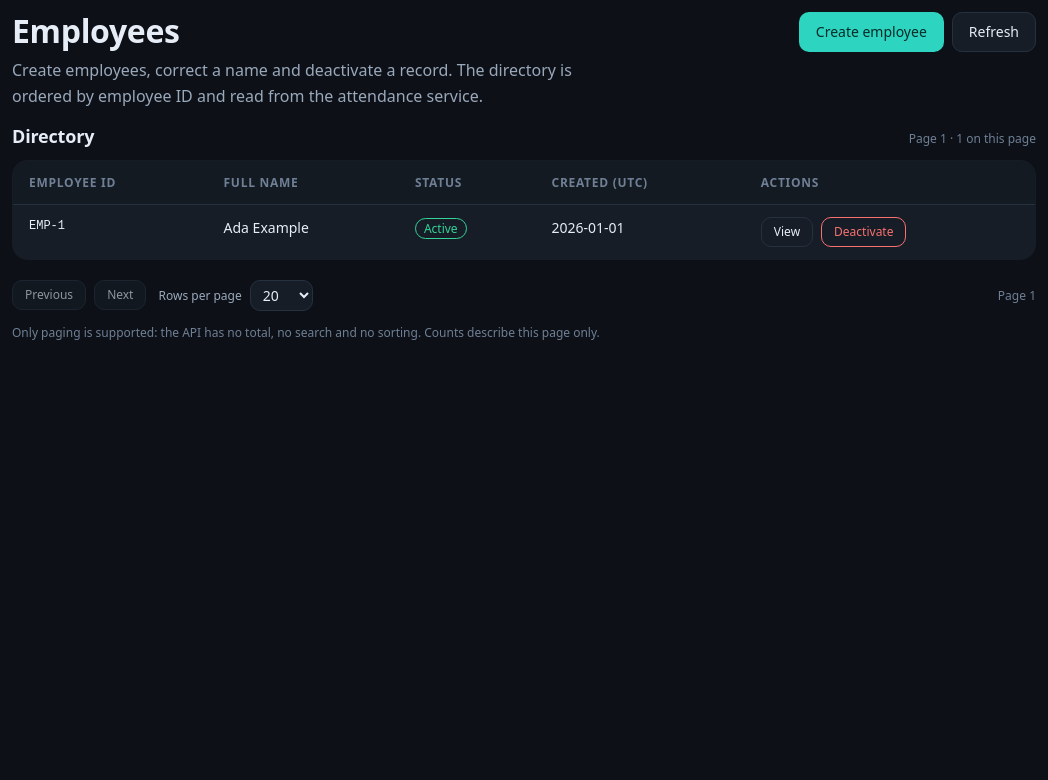
403 — authenticated but forbidden › keeps the session, reports the denial, and does not retry
Expected: the text "EMP-1" is shown, [29,219,65,233]
Step 1. Click the button "Create employee" → (871, 32), box [799,12,944,52]
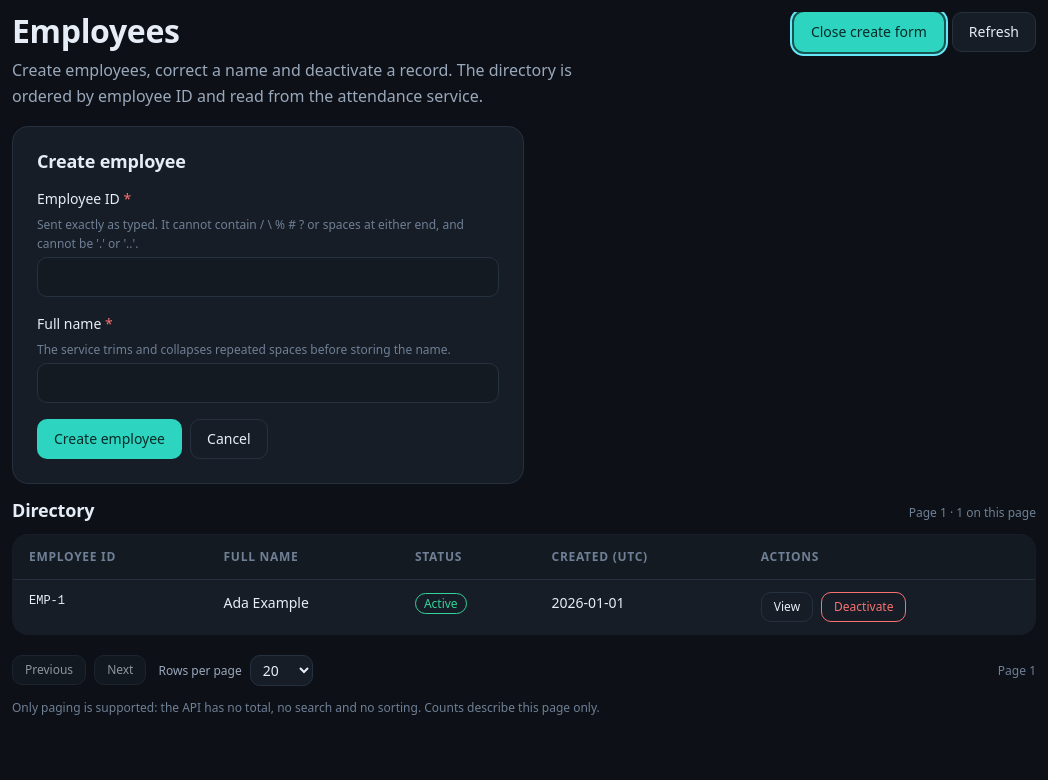
Step 2. Type "EMP-2" into the field labelled "Employee ID *" → (268, 277), box [37,257,499,297]
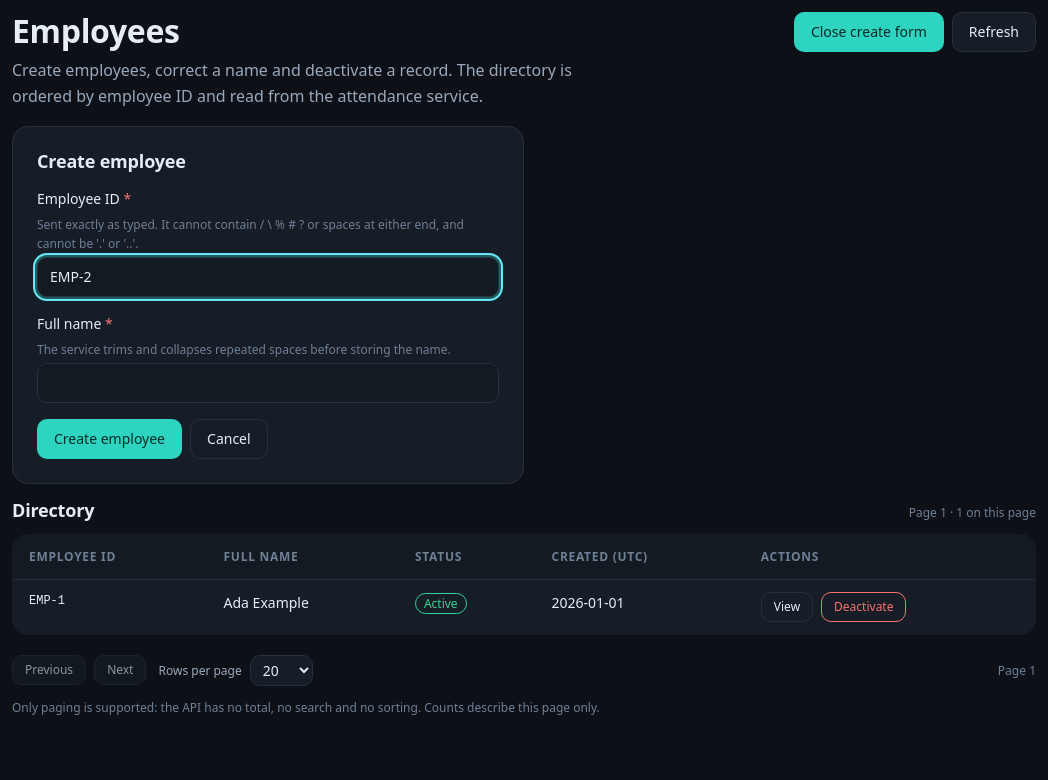
Step 3. Type "Grace Example" into the field labelled "Full name *" → (268, 383), box [37,363,499,403]
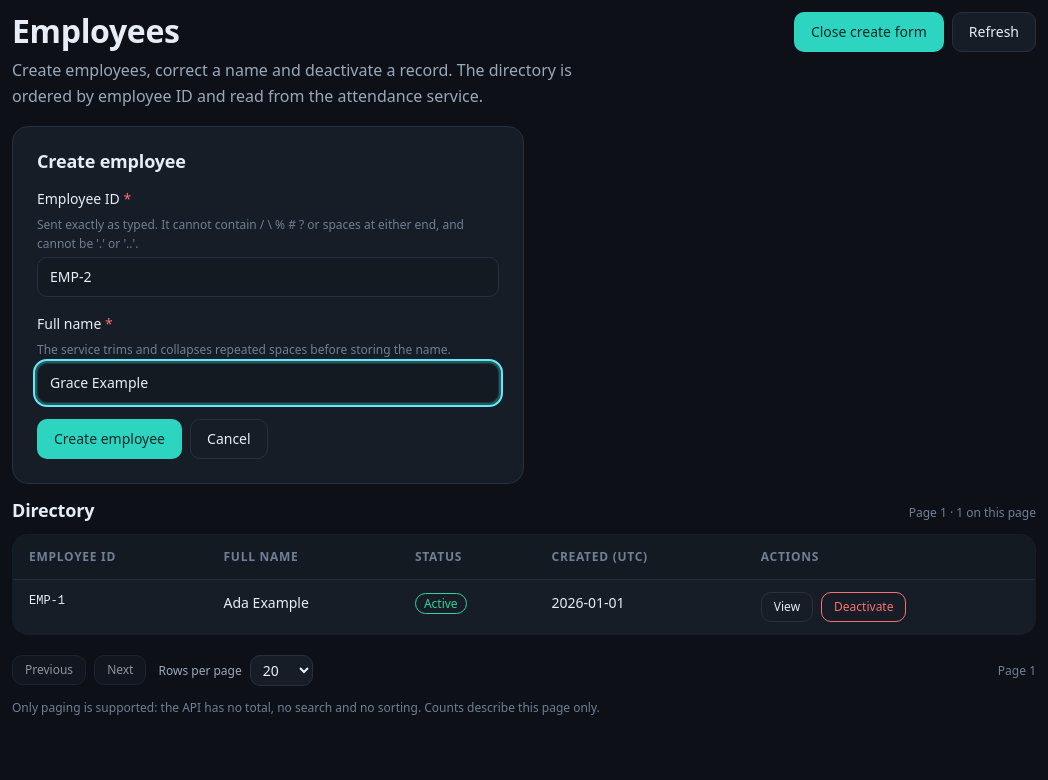
Step 4. Click the button "Create employee" → (110, 439), box [37,419,182,459]
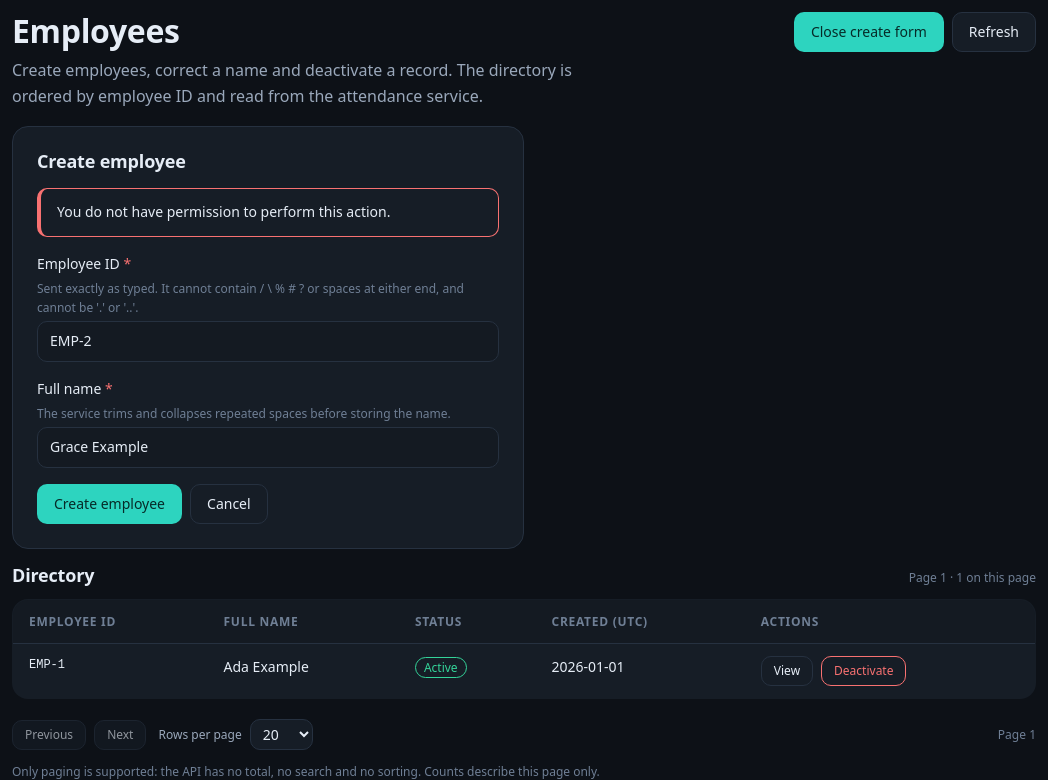
Expected: the text "You do not have permission to perform this action." is shown, [57,202,390,221]
